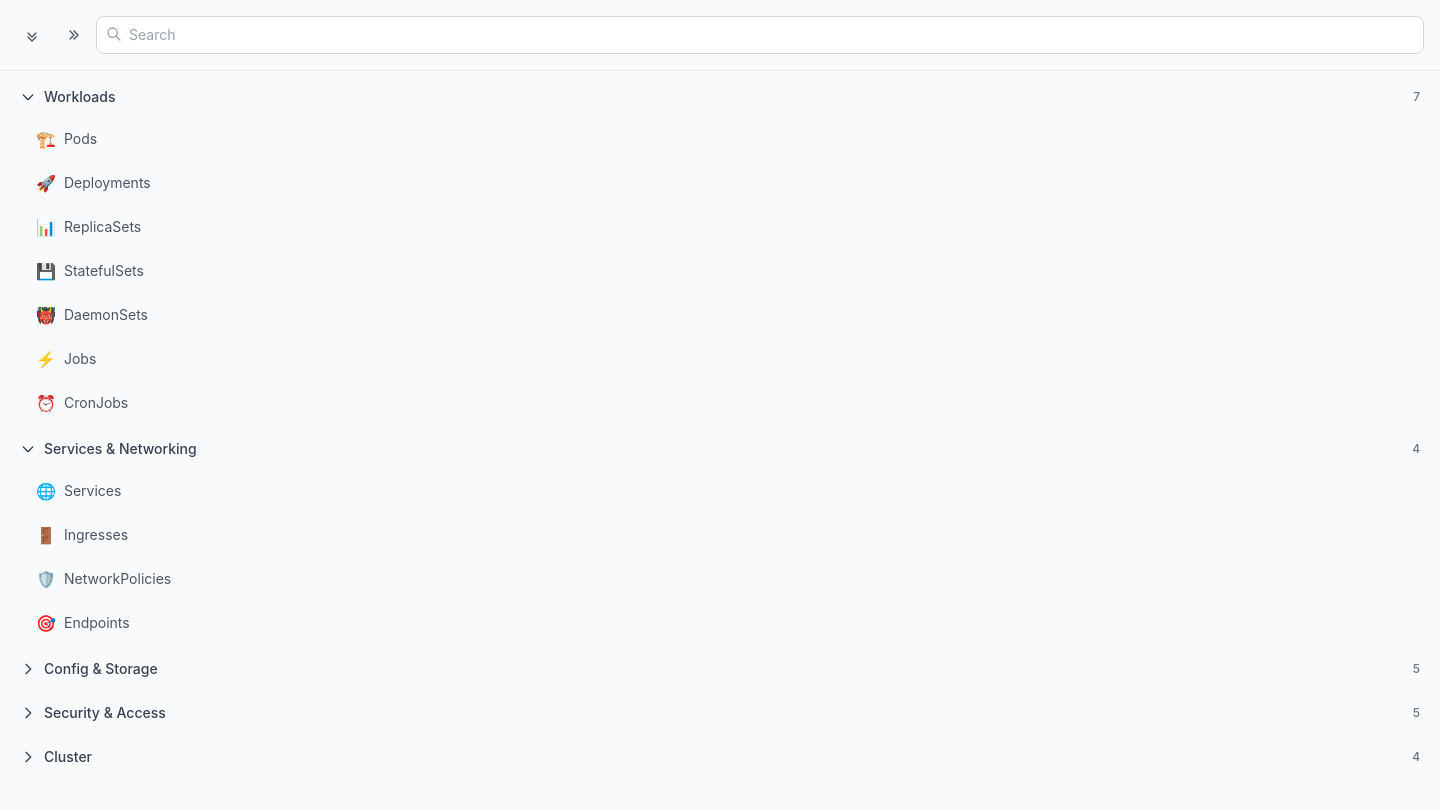
Test: ResourceTree › clearSearch › should clear the search and restore all resources
The image size is (1440, 810).
Type "pod" into the field with placeholder "Search".
click(760, 35); type("pod")  # box [96,16,1424,54]
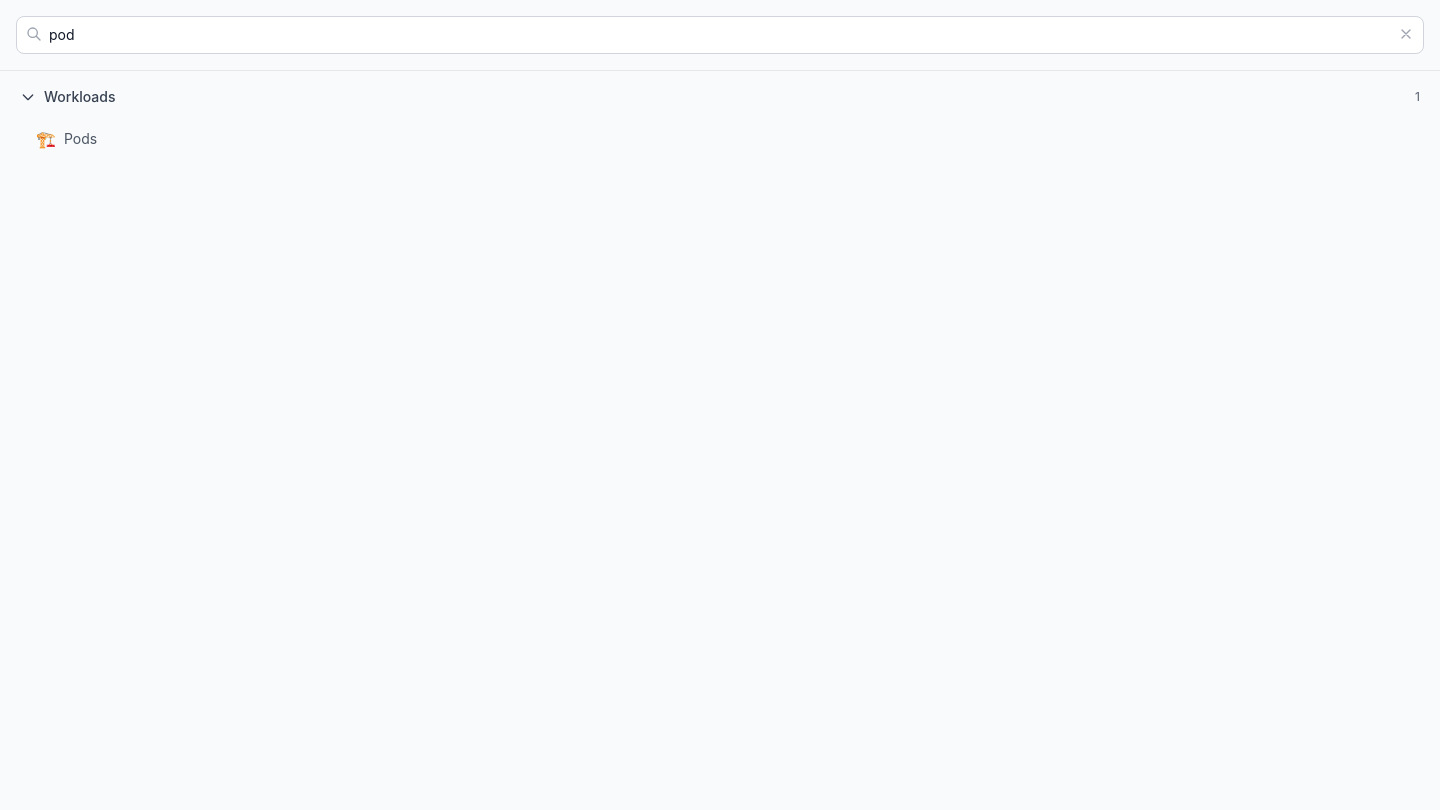
expect the button "Services" is gone: met
Click the button named "Clear search".
click(1406, 34)  # box [1398,26,1414,42]
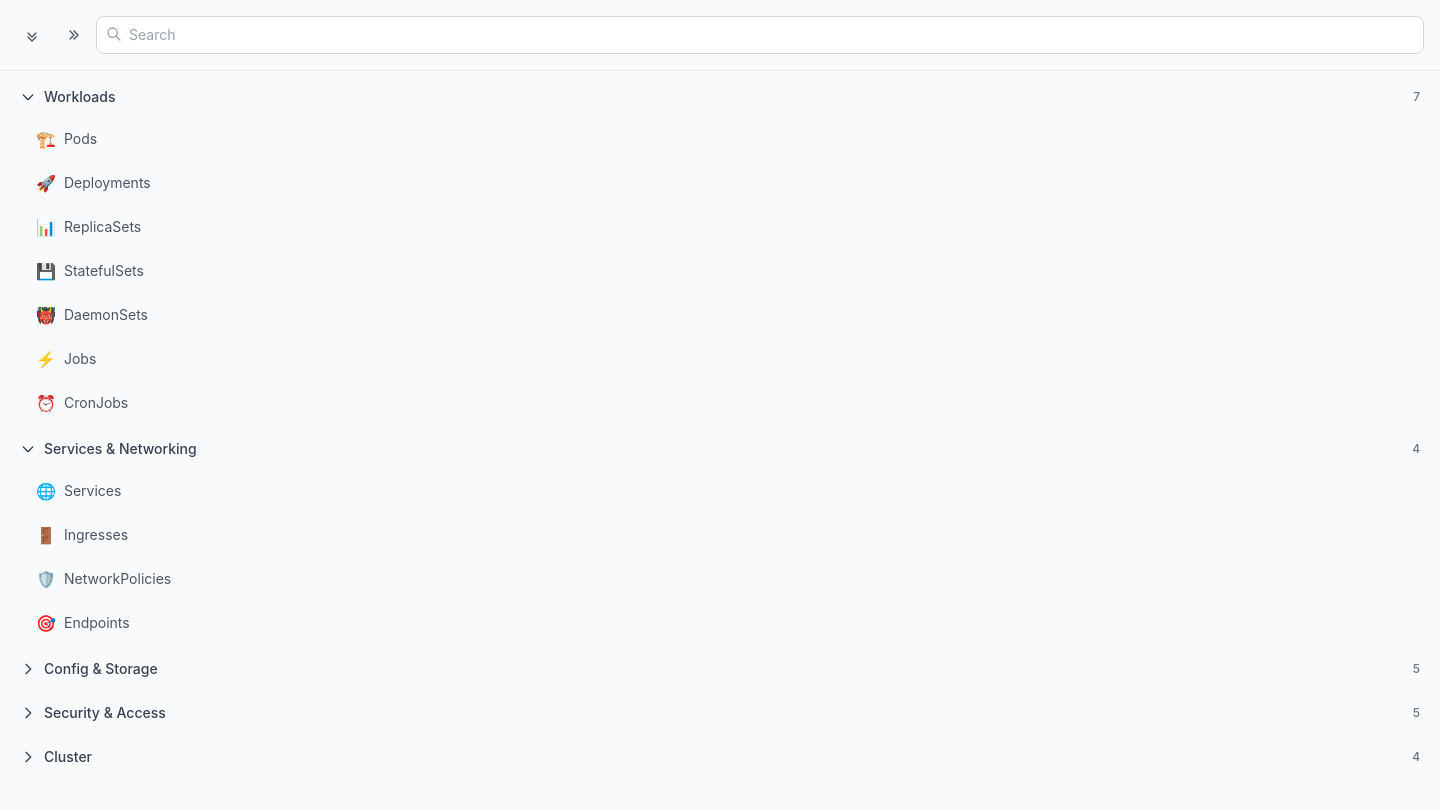
expect the text "Pods" is shown: met, box [64,129,97,149]
expect the text "Services" is shown: met, box [64,481,122,501]
